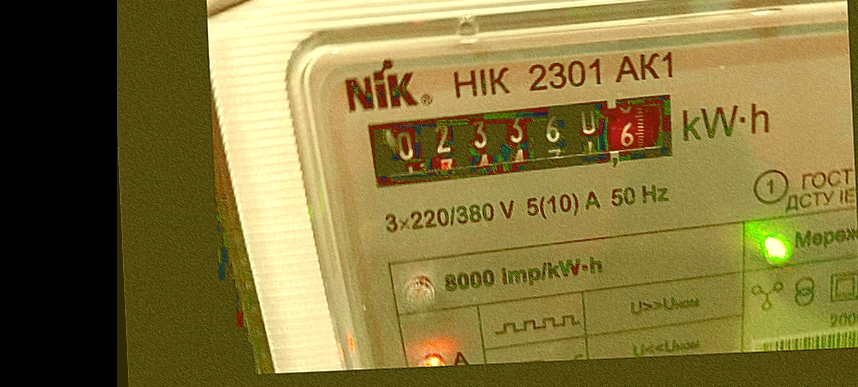0: (395, 128, 418, 163), (577, 106, 600, 138)
2: (433, 122, 455, 155)
3: (507, 111, 527, 145), (469, 119, 490, 151)
6: (617, 117, 640, 151), (542, 112, 565, 145)
screen: (351, 85, 693, 195)
